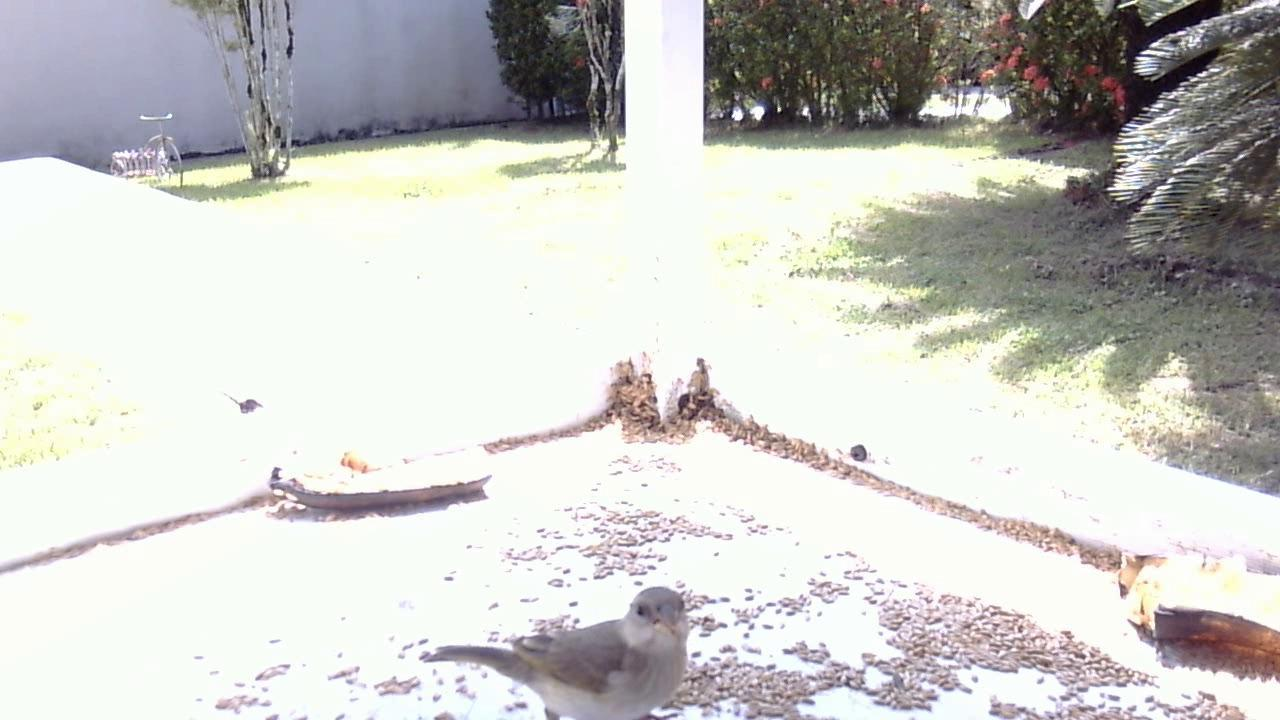canario_do_amazonas: (416, 589, 690, 720)
